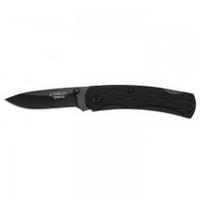knife: (3, 79, 199, 125)
